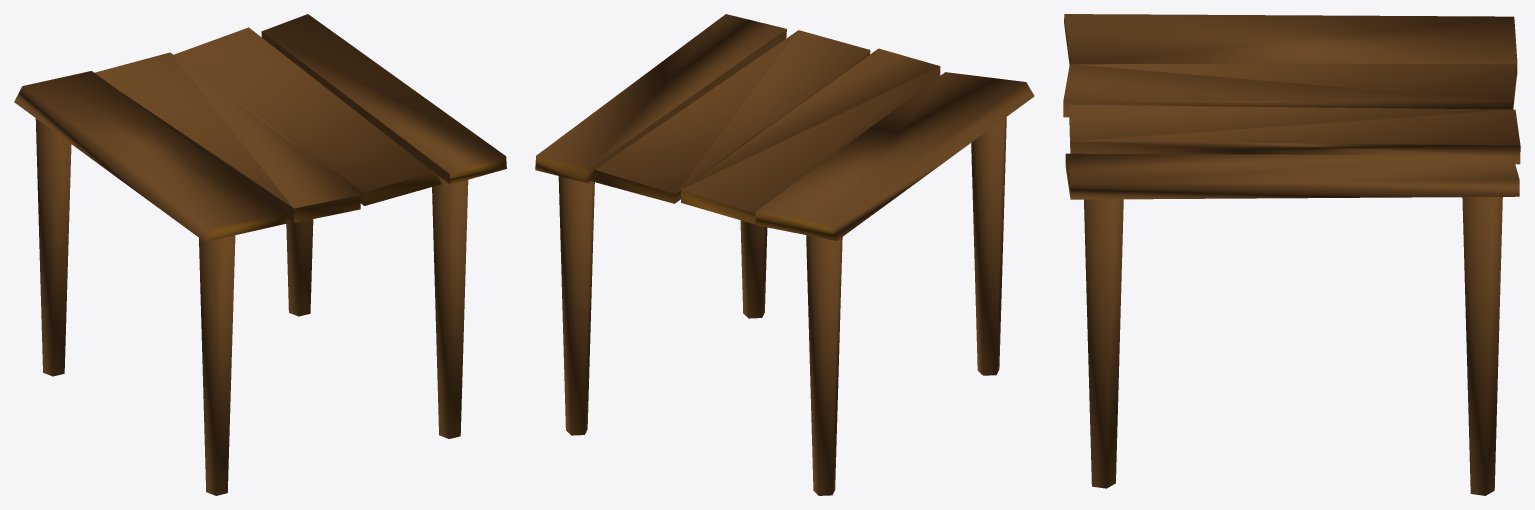
File: SquareTable.glb
3 views of the same model, side by side, from view 1: azimuth 30°, elevation 25°; view 2: azimuth 150°, elevation 25°; view 3: azimuth 270°, elevation 25° (orthographic). The views are drawn at different scales.
Visible parts, largest first — view 1: Cube.011; view 2: Cube.011; view 3: Cube.011.
Boxes of the visible parts, x1,y1,x2,y2 form: Cube.011: (14, 14, 506, 495); Cube.011: (535, 14, 1034, 495); Cube.011: (1063, 14, 1520, 495).
Size of the model in its own units: 0.8965 by 0.7886 by 1.
